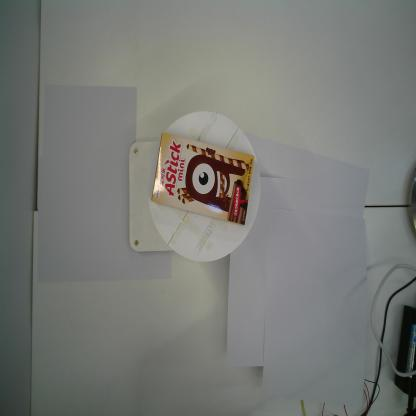Dessert: (151, 133, 255, 225)
